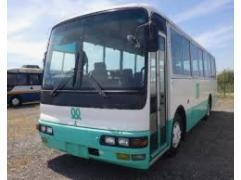bus: (37, 3, 218, 175)
